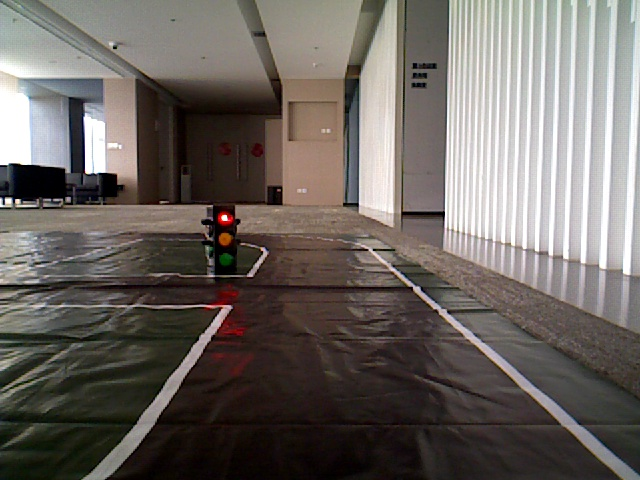red: (213, 207, 233, 267)
